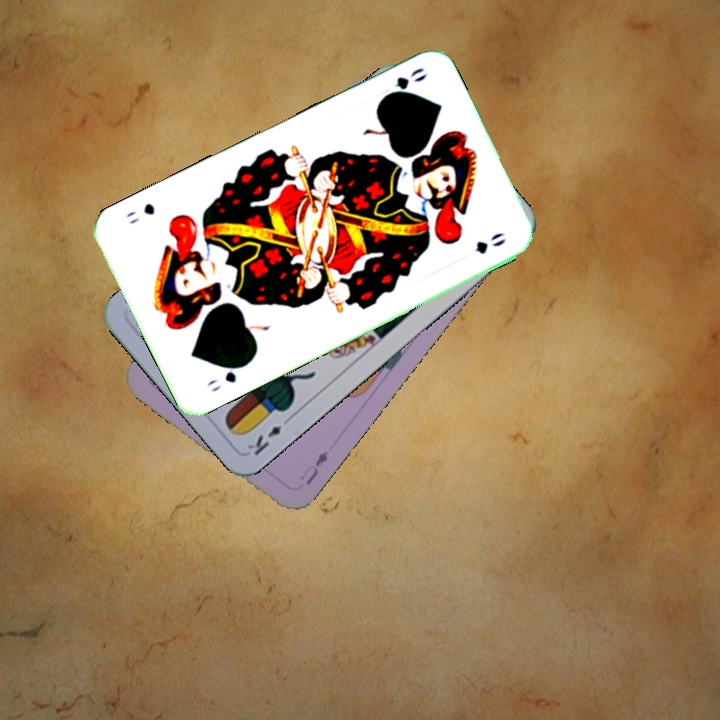EK: (243, 412, 295, 459)
EU: (295, 446, 331, 488)
GO: (376, 63, 429, 104), (202, 359, 251, 395)
